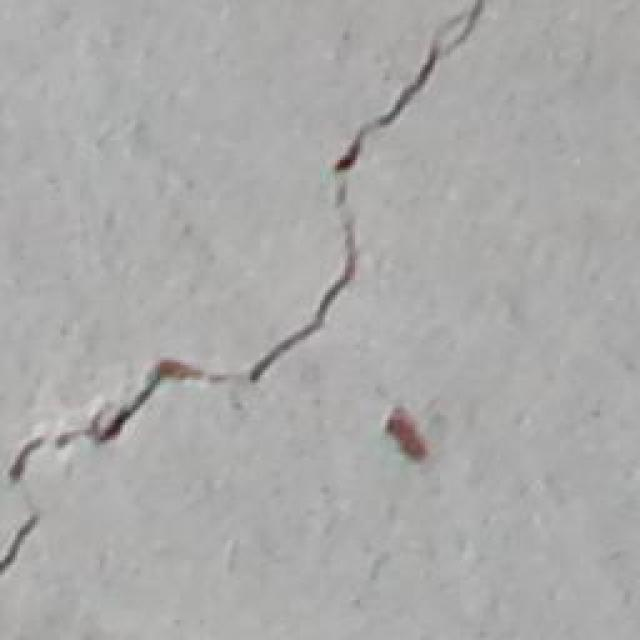concrete-crack: (0, 0, 488, 582)
